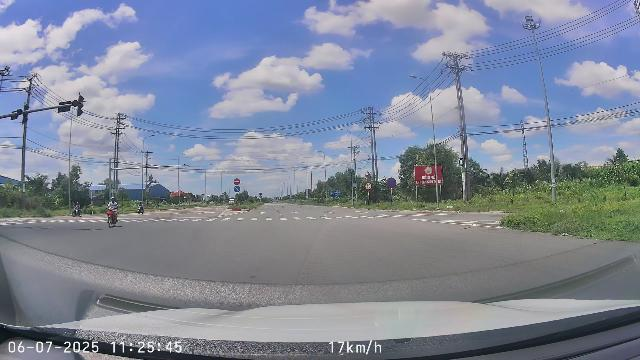102-cam-di-nguoc-chieu: (233, 178, 240, 185)
127-toc-do-toi-da-60: (364, 182, 373, 191)
131a-cam-do-xe: (386, 177, 397, 188)
302a-huong-phai-di-vong-chuong-ngai-vat-1: (233, 186, 240, 193)
